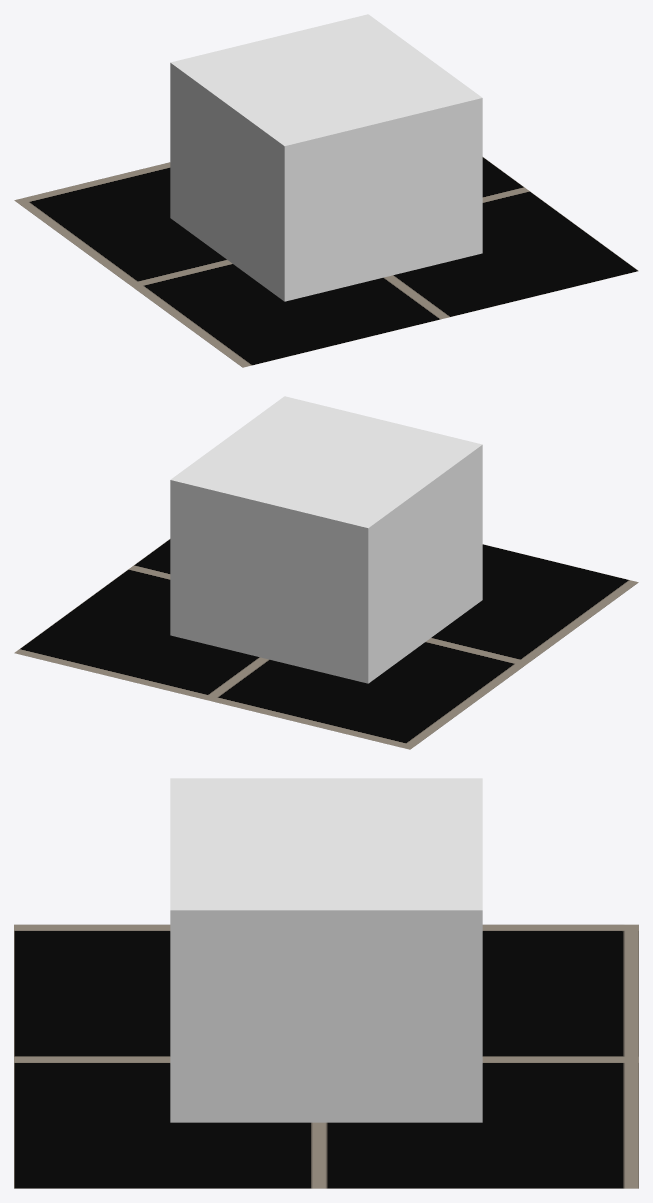
File: Basic_Under_Inner_Flat_1x1.glb
3 renders of one model, top to bottom at view 1: azimuth 30°, elevation 25°; view 2: azimuth 150°, elevation 25°; view 3: azimuth 270°, elevation 25°, orthographic. The views are drawn at different scales.
Visible parts, largest first — view 1: Basic_Under_Inner_Flat_1x1, Floor; view 2: Basic_Under_Inner_Flat_1x1, Floor; view 3: Basic_Under_Inner_Flat_1x1, Floor.
Part boxes in pixels (<box>): Basic_Under_Inner_Flat_1x1: <box>170,14,482,301</box>; Floor: <box>14,157,638,367</box>; Basic_Under_Inner_Flat_1x1: <box>170,396,482,683</box>; Floor: <box>14,539,638,749</box>; Basic_Under_Inner_Flat_1x1: <box>170,778,482,1122</box>; Floor: <box>14,924,638,1188</box>.
Size of the model in its own units: 200 by 75 by 200.
3 materials, 1 textured.
